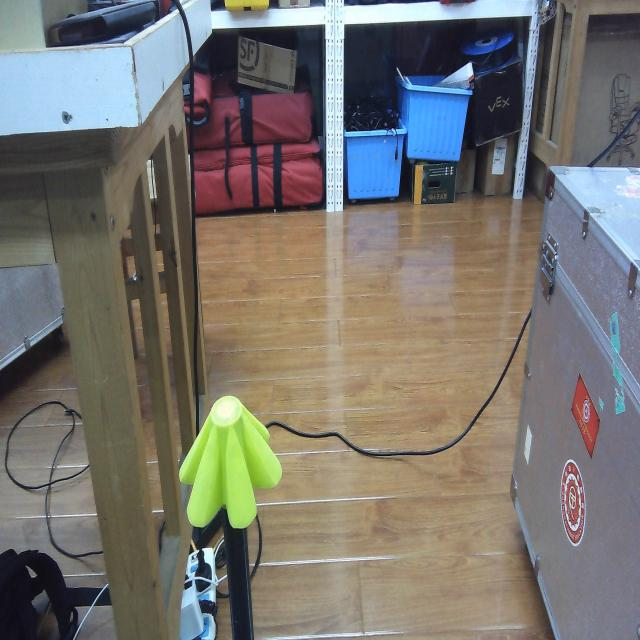Yellow-Stake-Head: (178, 395, 282, 529)
